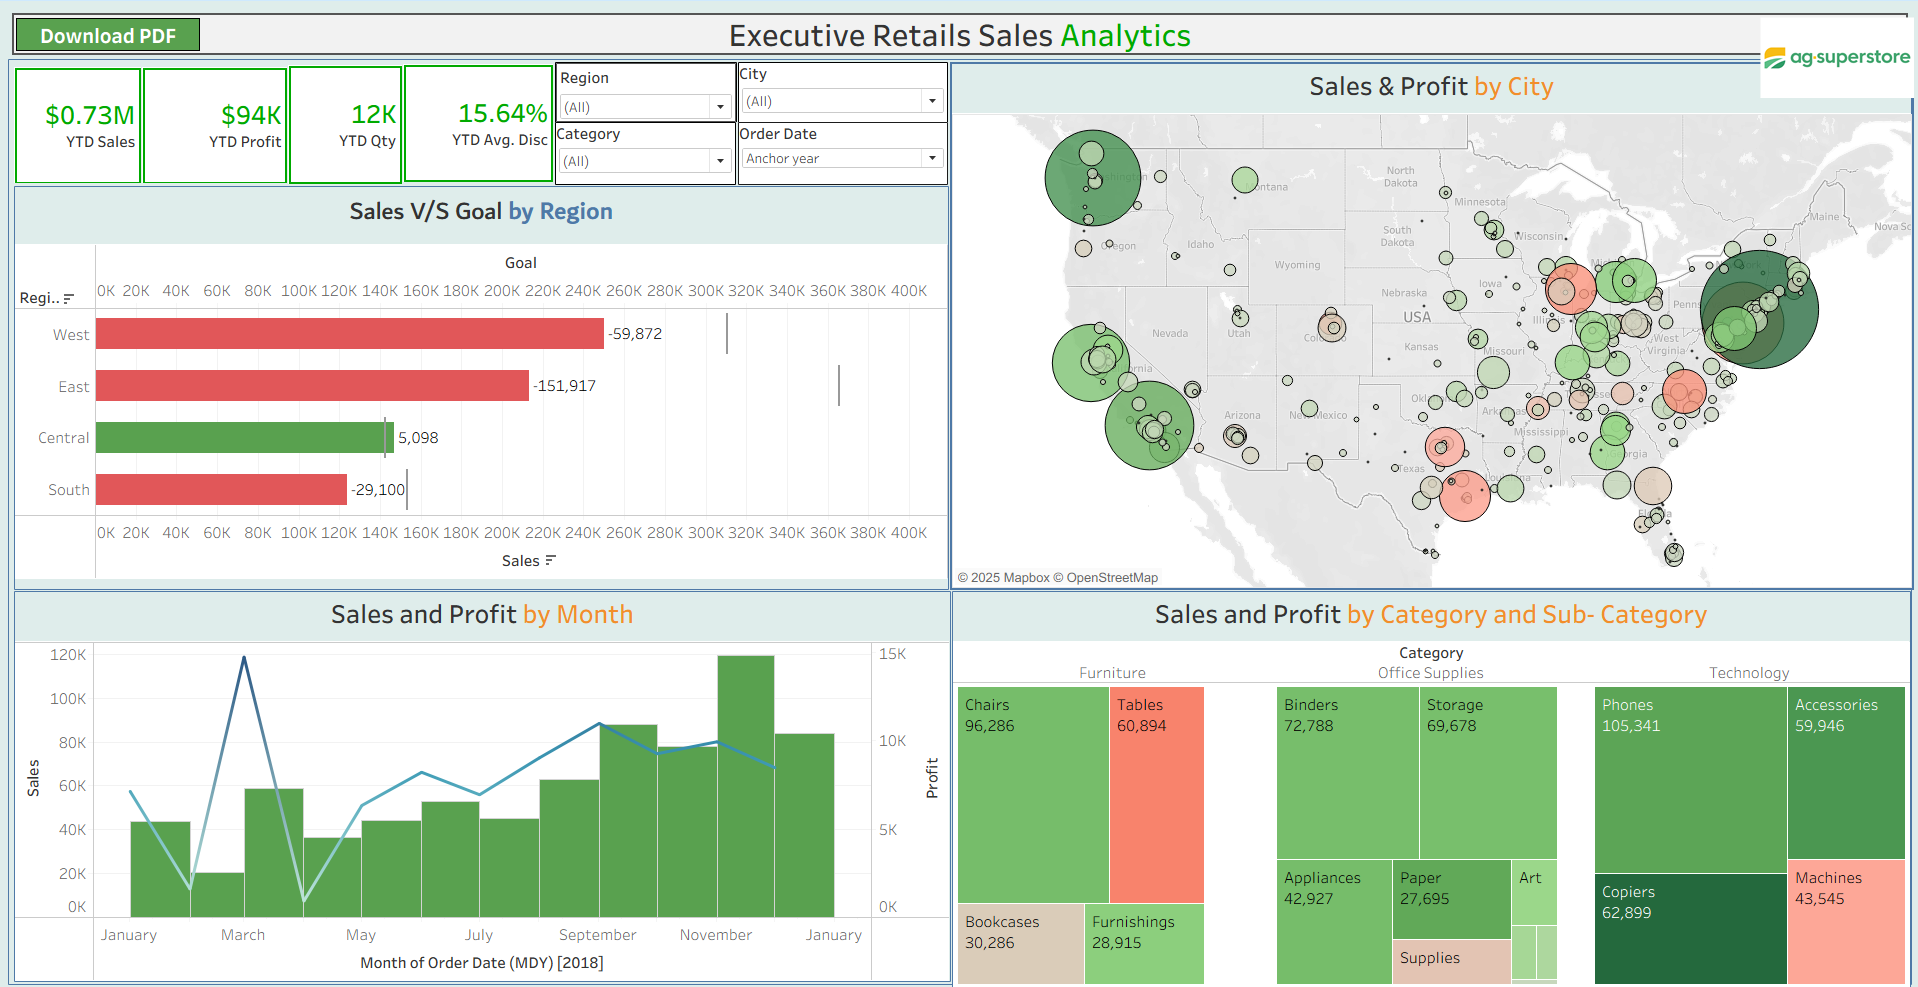

What the dashboard file says about the page in this screenshot:
{"tool":"tableau","page":{"name":"Dashboard 1","canvas":[1000,1000],"units":"permille","ordinal":0},"visuals":[{"type":"title","box":[4.8,10,990.4,49.9]},{"type":"dashboard-object","box":[8.4,17.5,95.6,33.7]},{"type":"filter","title":"RegionSalesvsGoal","param":"[federated.1u02box1ioevtw1h0fczs0g7tg69].[none:Region:nk]","box":[289.3,61.2,95,61.2]},{"type":"filter","title":"Sales&PrftByCity","param":"[federated.1u02box1ioevtw1h0fczs0g7tg69].[none:City:nk]","box":[384.3,61.2,109.4,61.2]},{"type":"worksheet","title":"Sales&PrftByCity","mark":"Automatic","box":[494.9,61.2,502.1,531.8]},{"type":"worksheet","title":"Discount","mark":"Automatic","box":[209.8,63.7,78.3,118.6]},{"type":"worksheet","title":"Qty","mark":"Automatic","box":[150,64.9,59.2,119.9]},{"type":"worksheet","title":"SalesCard","mark":"Automatic","box":[7.2,66.2,66.4,117.4]},{"type":"worksheet","title":"Profit","mark":"Automatic","box":[74.1,66.2,75.3,117.4]},{"type":"filter","title":"TreeMap","param":"[federated.1u02box1ioevtw1h0fczs0g7tg69].[none:Category:nk]","box":[289.3,122.4,94.4,63.7]},{"type":"filter","title":"Time Series","param":"[federated.1u02box1ioevtw1h0fczs0g7tg69].[tmn:Order Date (MDY):qk]","box":[384.3,122.4,109.4,63.7]},{"type":"worksheet","title":"RegionSalesvsGoal","mark":"Automatic","rows":["Region"],"cols":["Sales","Goal"],"box":[7.2,186,487,407]},{"type":"worksheet","title":"Time Series","mark":"Automatic","rows":["Sales","Profit"],"cols":["Order Date (MDY)"],"box":[7.2,594.3,488.2,393.3]},{"type":"worksheet","title":"TreeMap","mark":"Automatic","cols":["Category"],"box":[496.1,594.3,499.7,403.2]}]}

Visuals, with their boxes on the dashboard's canvas, which has no fixed pixel size, in thousandths of its width and height (x1, y1, x2, y2). These are canvas units, not pixel positions in the 1918x987 screenshot, which may show the page scaled, cropped or inside an application window:
title: <box>5,10,995,60</box>
dashboard-object: <box>8,18,104,51</box>
"RegionSalesvsGoal" filter: <box>289,61,384,122</box>
"Sales&PrftByCity" filter: <box>384,61,494,122</box>
"Sales&PrftByCity" worksheet: <box>495,61,997,593</box>
"Discount" worksheet: <box>210,64,288,182</box>
"Qty" worksheet: <box>150,65,209,185</box>
"SalesCard" worksheet: <box>7,66,74,184</box>
"Profit" worksheet: <box>74,66,149,184</box>
"TreeMap" filter: <box>289,122,384,186</box>
"Time Series" filter: <box>384,122,494,186</box>
"RegionSalesvsGoal" worksheet: <box>7,186,494,593</box>
"Time Series" worksheet: <box>7,594,495,988</box>
"TreeMap" worksheet: <box>496,594,996,998</box>
